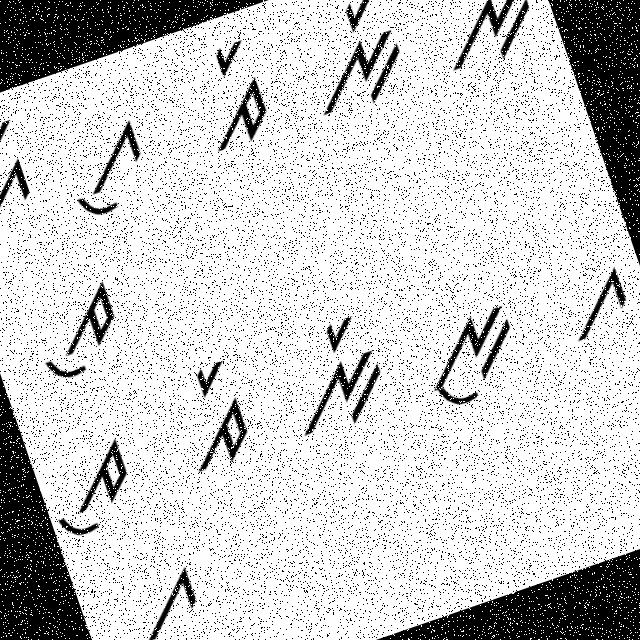ga: (545, 259, 639, 359)
gar: (0, 106, 54, 241)
gaw: (45, 105, 161, 228), (100, 553, 231, 639)
nga: (420, 0, 551, 91)
ngar: (262, 302, 402, 452), (280, 0, 424, 129)
ngaw: (404, 286, 540, 418)
tar: (178, 30, 292, 159), (160, 344, 268, 480)
taw: (6, 265, 145, 398), (29, 426, 150, 544)
